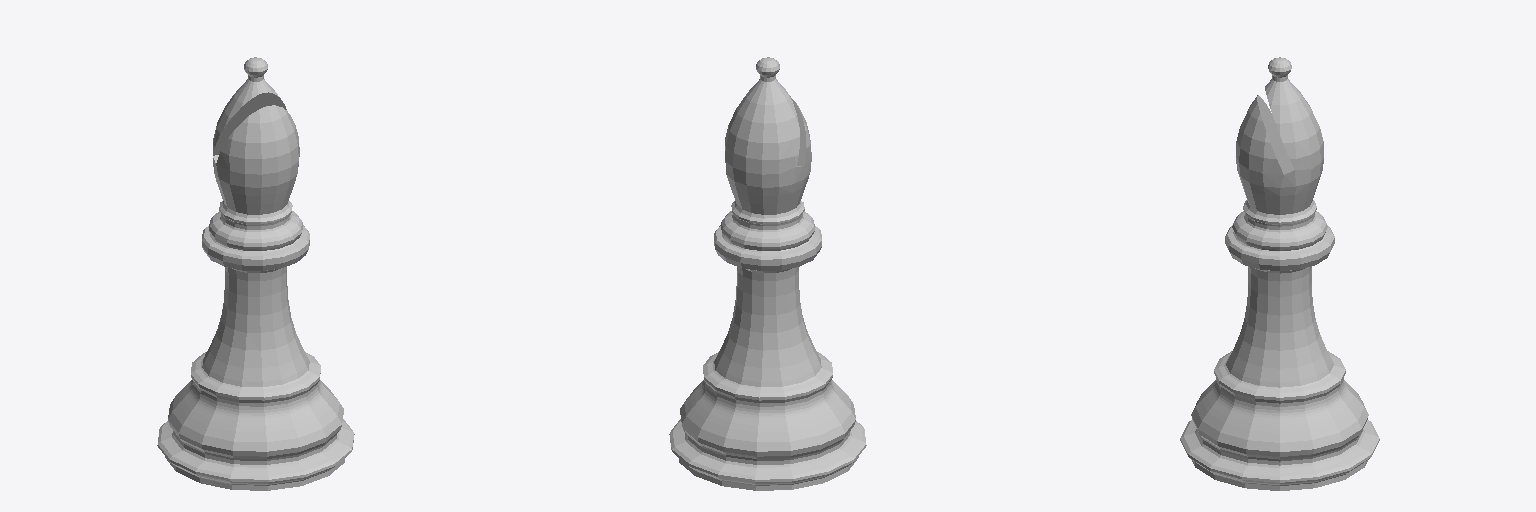
File: blackbishopnew.obj
3 views of the same model, side by side, from view 1: azimuth 30°, elevation 25°; view 2: azimuth 150°, elevation 25°; view 3: azimuth 270°, elevation 25° (orthographic).
Visible parts, largest first — view 1: BlackBishop1_Cylinder.029; view 2: BlackBishop1_Cylinder.029; view 3: BlackBishop1_Cylinder.029.
Part boxes in pixels (x1,y1,x2,y2): BlackBishop1_Cylinder.029: (157, 57, 354, 490); BlackBishop1_Cylinder.029: (669, 57, 866, 490); BlackBishop1_Cylinder.029: (1180, 57, 1379, 490).
Size of the model in its own units: 1.19 by 2.59 by 1.19.